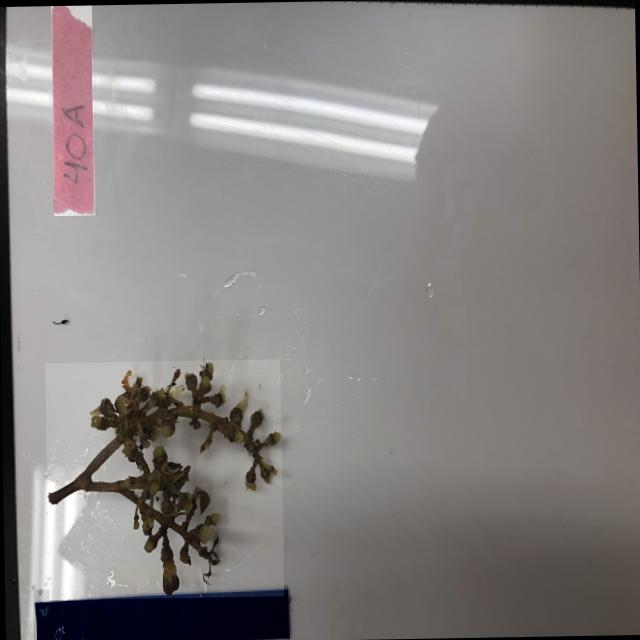index: (50, 4, 96, 215)
measure_label: (32, 584, 288, 640)
rachis_cluster: (44, 358, 284, 598)
